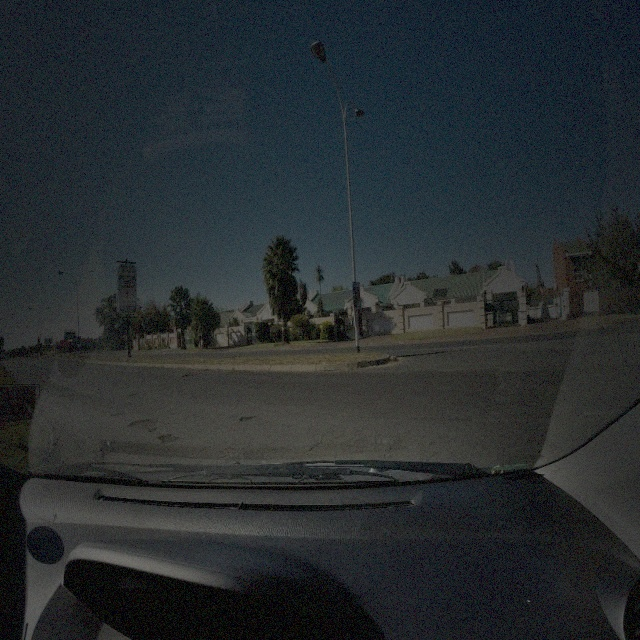pothole: (126, 413, 158, 432), (156, 431, 180, 444), (238, 414, 257, 424), (128, 387, 146, 397), (180, 371, 197, 378)
